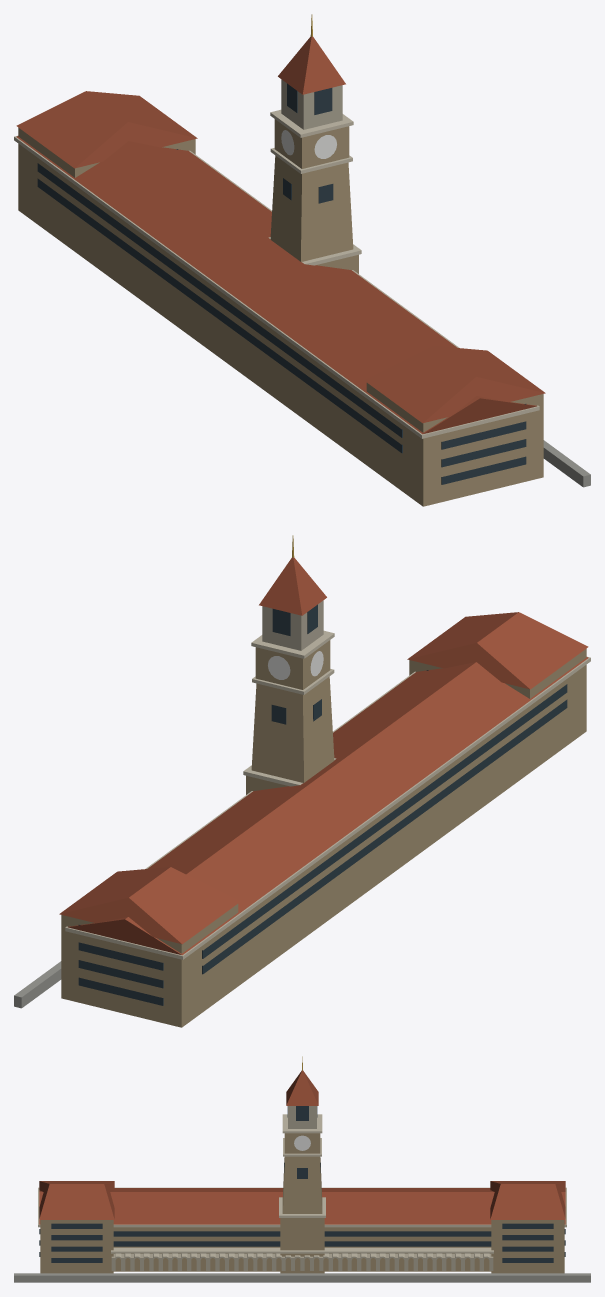
Rendered from desktop.glb.
The picture shows the model from 3 angles, top to bottom: view 1: azimuth 30°, elevation 25°; view 2: azimuth 150°, elevation 25°; view 3: azimuth 270°, elevation 25°; orthographic projection. The views are drawn at different scales.
Visible parts, largest first — view 1: lm.ferry-building; view 2: lm.ferry-building; view 3: lm.ferry-building.
Part boxes in pixels (box(x1,y1,x2,y2)): lm.ferry-building: box(14, 14, 590, 506); lm.ferry-building: box(14, 535, 590, 1027); lm.ferry-building: box(14, 1056, 590, 1282).
Size of the model in its own units: 42.9 by 87.8 by 220.
